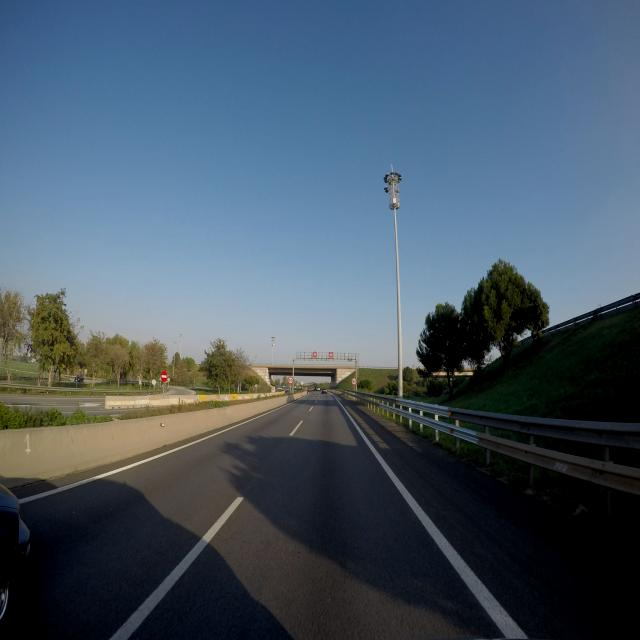car: (0, 472, 33, 636)
